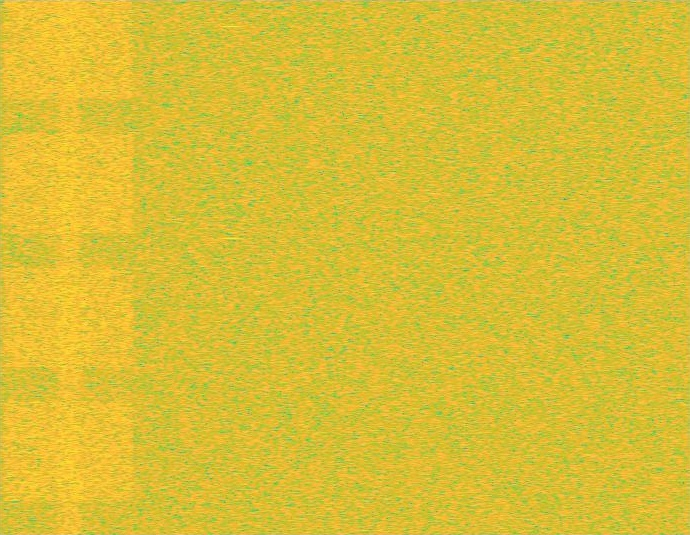5G: (0, 0, 138, 534)
DSSS: (53, 0, 85, 534)
Radar: (225, 0, 239, 534)
